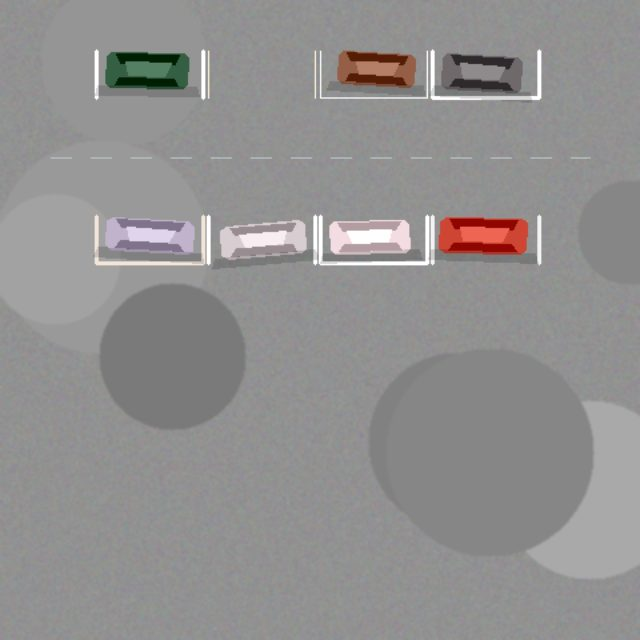space-empty: (208, 51, 315, 97)
space-occupied: (96, 216, 203, 263), (208, 216, 315, 263), (320, 216, 427, 263), (432, 216, 539, 263), (96, 51, 203, 97), (320, 51, 427, 97), (432, 51, 539, 97)
